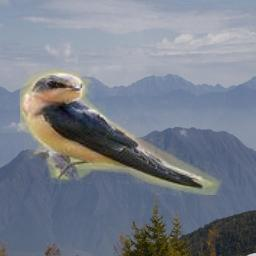Swallow: (20, 65, 223, 195)
